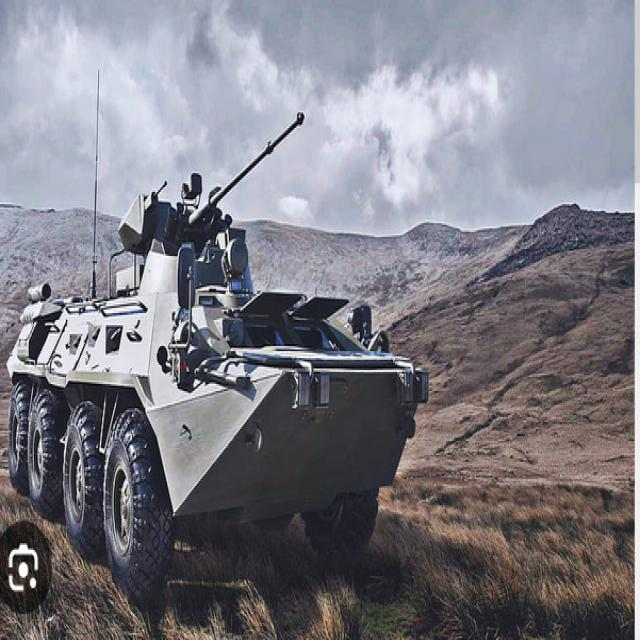MIL_APC: (8, 154, 473, 619)
